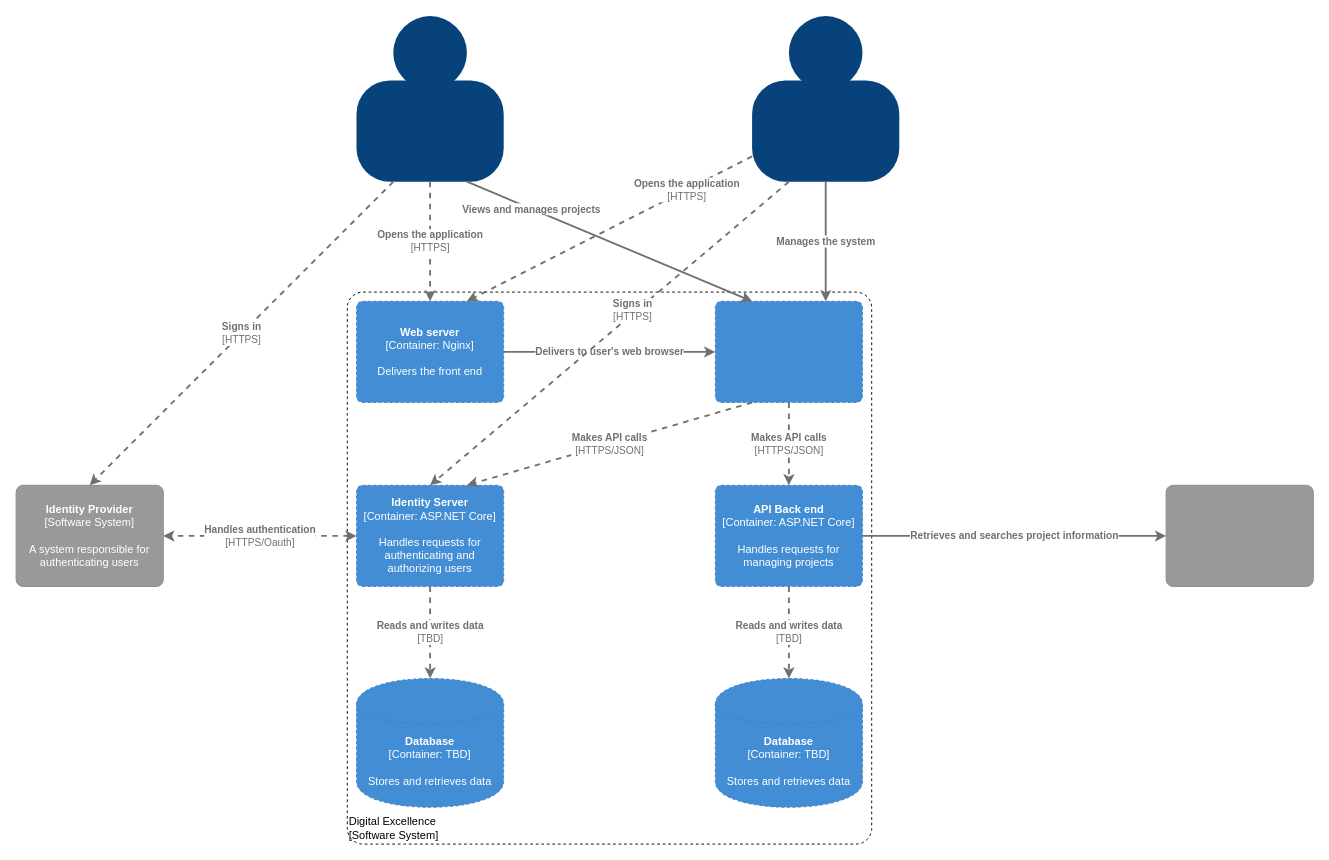
Some shapes in this 1329 by 860 pixel diagram are drawn without their labels. Here are the shapes that lost their labels. From the top down, the centre of each, then its label:
At (x=430, y=131): "User [Person] A student or teacher".
At (x=825, y=131): "Administrator [Person] An administrator of the system".
At (x=788, y=351): "Front end [Container: Angular ] The user interface of the system".
At (x=1239, y=535): "Sources [Software System] External sources for projects (GitLab, GitHub, etc.)".
